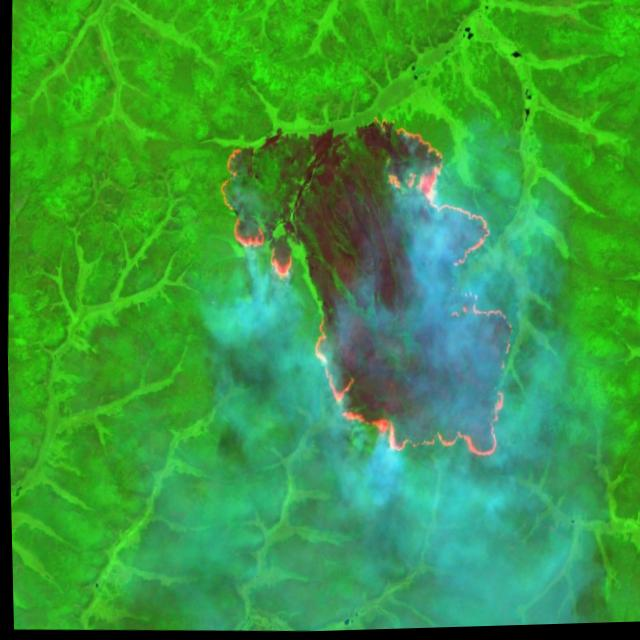fire: (200, 97, 523, 476)
